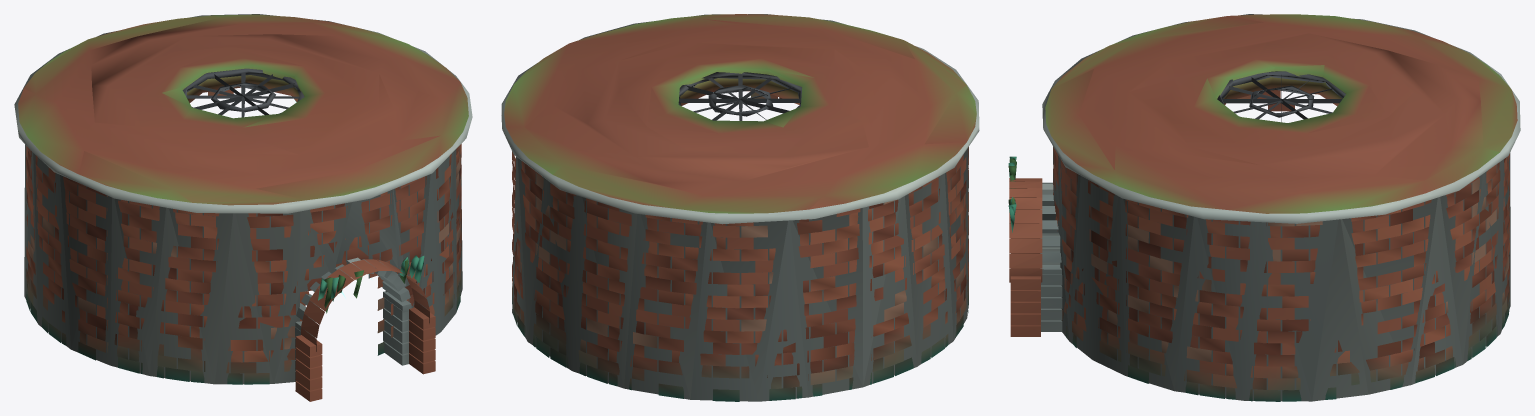
File: grotto_drain_dome_lod2.glb
3 views of the same model, side by side, from view 1: azimuth 30°, elevation 25°; view 2: azimuth 150°, elevation 25°; view 3: azimuth 270°, elevation 25° (orthographic). The views are drawn at different scales.
Parts seen in each view (by area): view 1: grotto_drain_dome.001; view 2: grotto_drain_dome.001; view 3: grotto_drain_dome.001.
Part boxes in pixels (x1=…): grotto_drain_dome.001: x1=14, y1=14, x2=472, y2=401; grotto_drain_dome.001: x1=501, y1=14, x2=979, y2=401; grotto_drain_dome.001: x1=1008, y1=14, x2=1520, y2=401.
Bounding box in the file's own units: 37.03 × 17.97 × 39.66.
